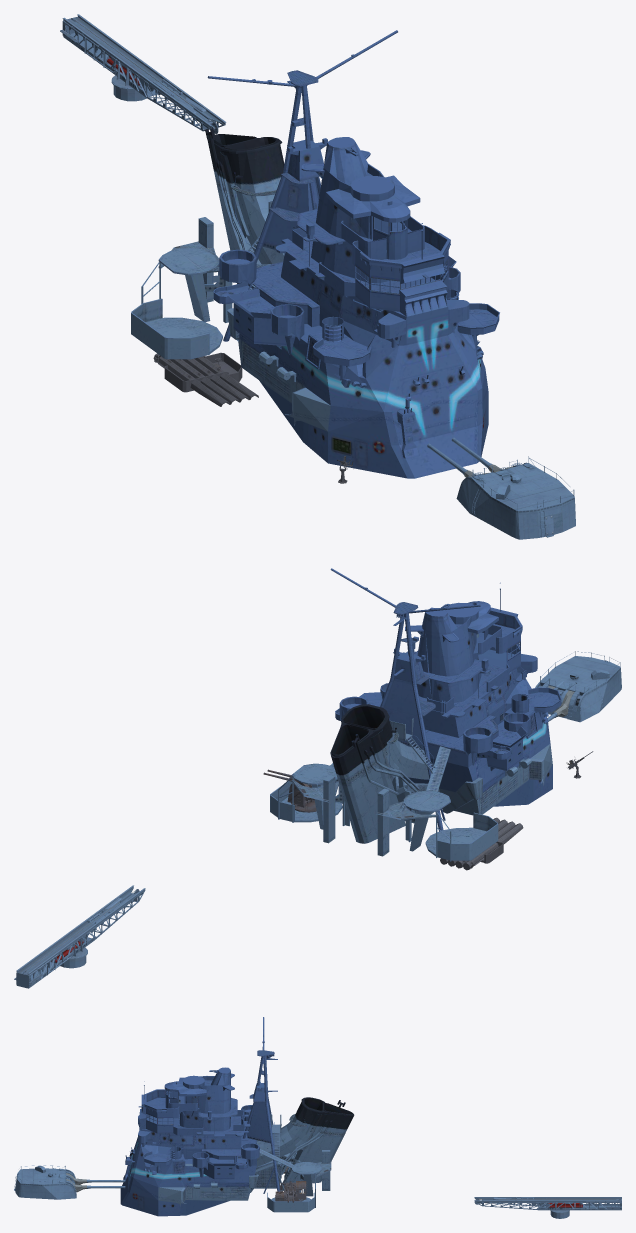
Rendered from takao-refit-modules.glb.
3 views of the same model, one above another, from view 1: azimuth 30°, elevation 25°; view 2: azimuth 150°, elevation 25°; view 3: azimuth 270°, elevation 25° (orthographic). The views are drawn at different scales.
Visible parts, largest first — view 1: refit_bridge, refit_funnel, TurretShape, CatapultShape, Type93LShape; view 2: refit_funnel, refit_bridge, TurretShape, CatapultShape, Type93LShape, TurretShape3; view 3: refit_bridge, refit_funnel, TurretShape, CatapultShape, TurretShape3.
Part boxes in pixels (x1=…): refit_bridge: x1=213, y1=137, x2=499, y2=478; refit_funnel: x1=131, y1=30, x2=397, y2=359; TurretShape: x1=427, y1=437, x2=575, y2=539; CatapultShape: x1=60, y1=14, x2=226, y2=133; Type93LShape: x1=153, y1=352, x2=258, y2=406; refit_funnel: x1=270, y1=568, x2=498, y2=861; refit_bridge: x1=335, y1=582, x2=561, y2=815; TurretShape: x1=535, y1=651, x2=621, y2=722; CatapultShape: x1=14, y1=885, x2=145, y2=988; Type93LShape: x1=440, y1=817, x2=523, y2=870; TurretShape3: x1=263, y1=769, x2=316, y2=812; refit_bridge: x1=120, y1=1067, x2=256, y2=1216; refit_funnel: x1=241, y1=1017, x2=354, y2=1212; TurretShape: x1=14, y1=1165, x2=125, y2=1199; CatapultShape: x1=474, y1=1197, x2=621, y2=1218; TurretShape3: x1=275, y1=1181, x2=307, y2=1202.
Bounding box in the file's own units: 14.34 × 15.51 × 54.51.
6 materials, 6 textured.
